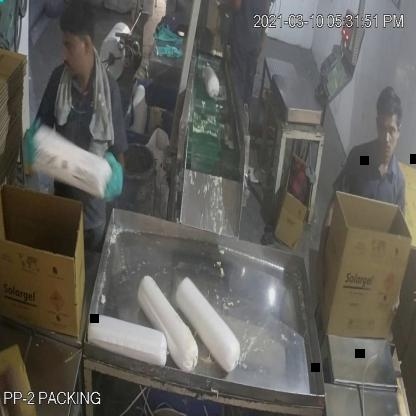no_glove: (306, 178, 338, 308)
